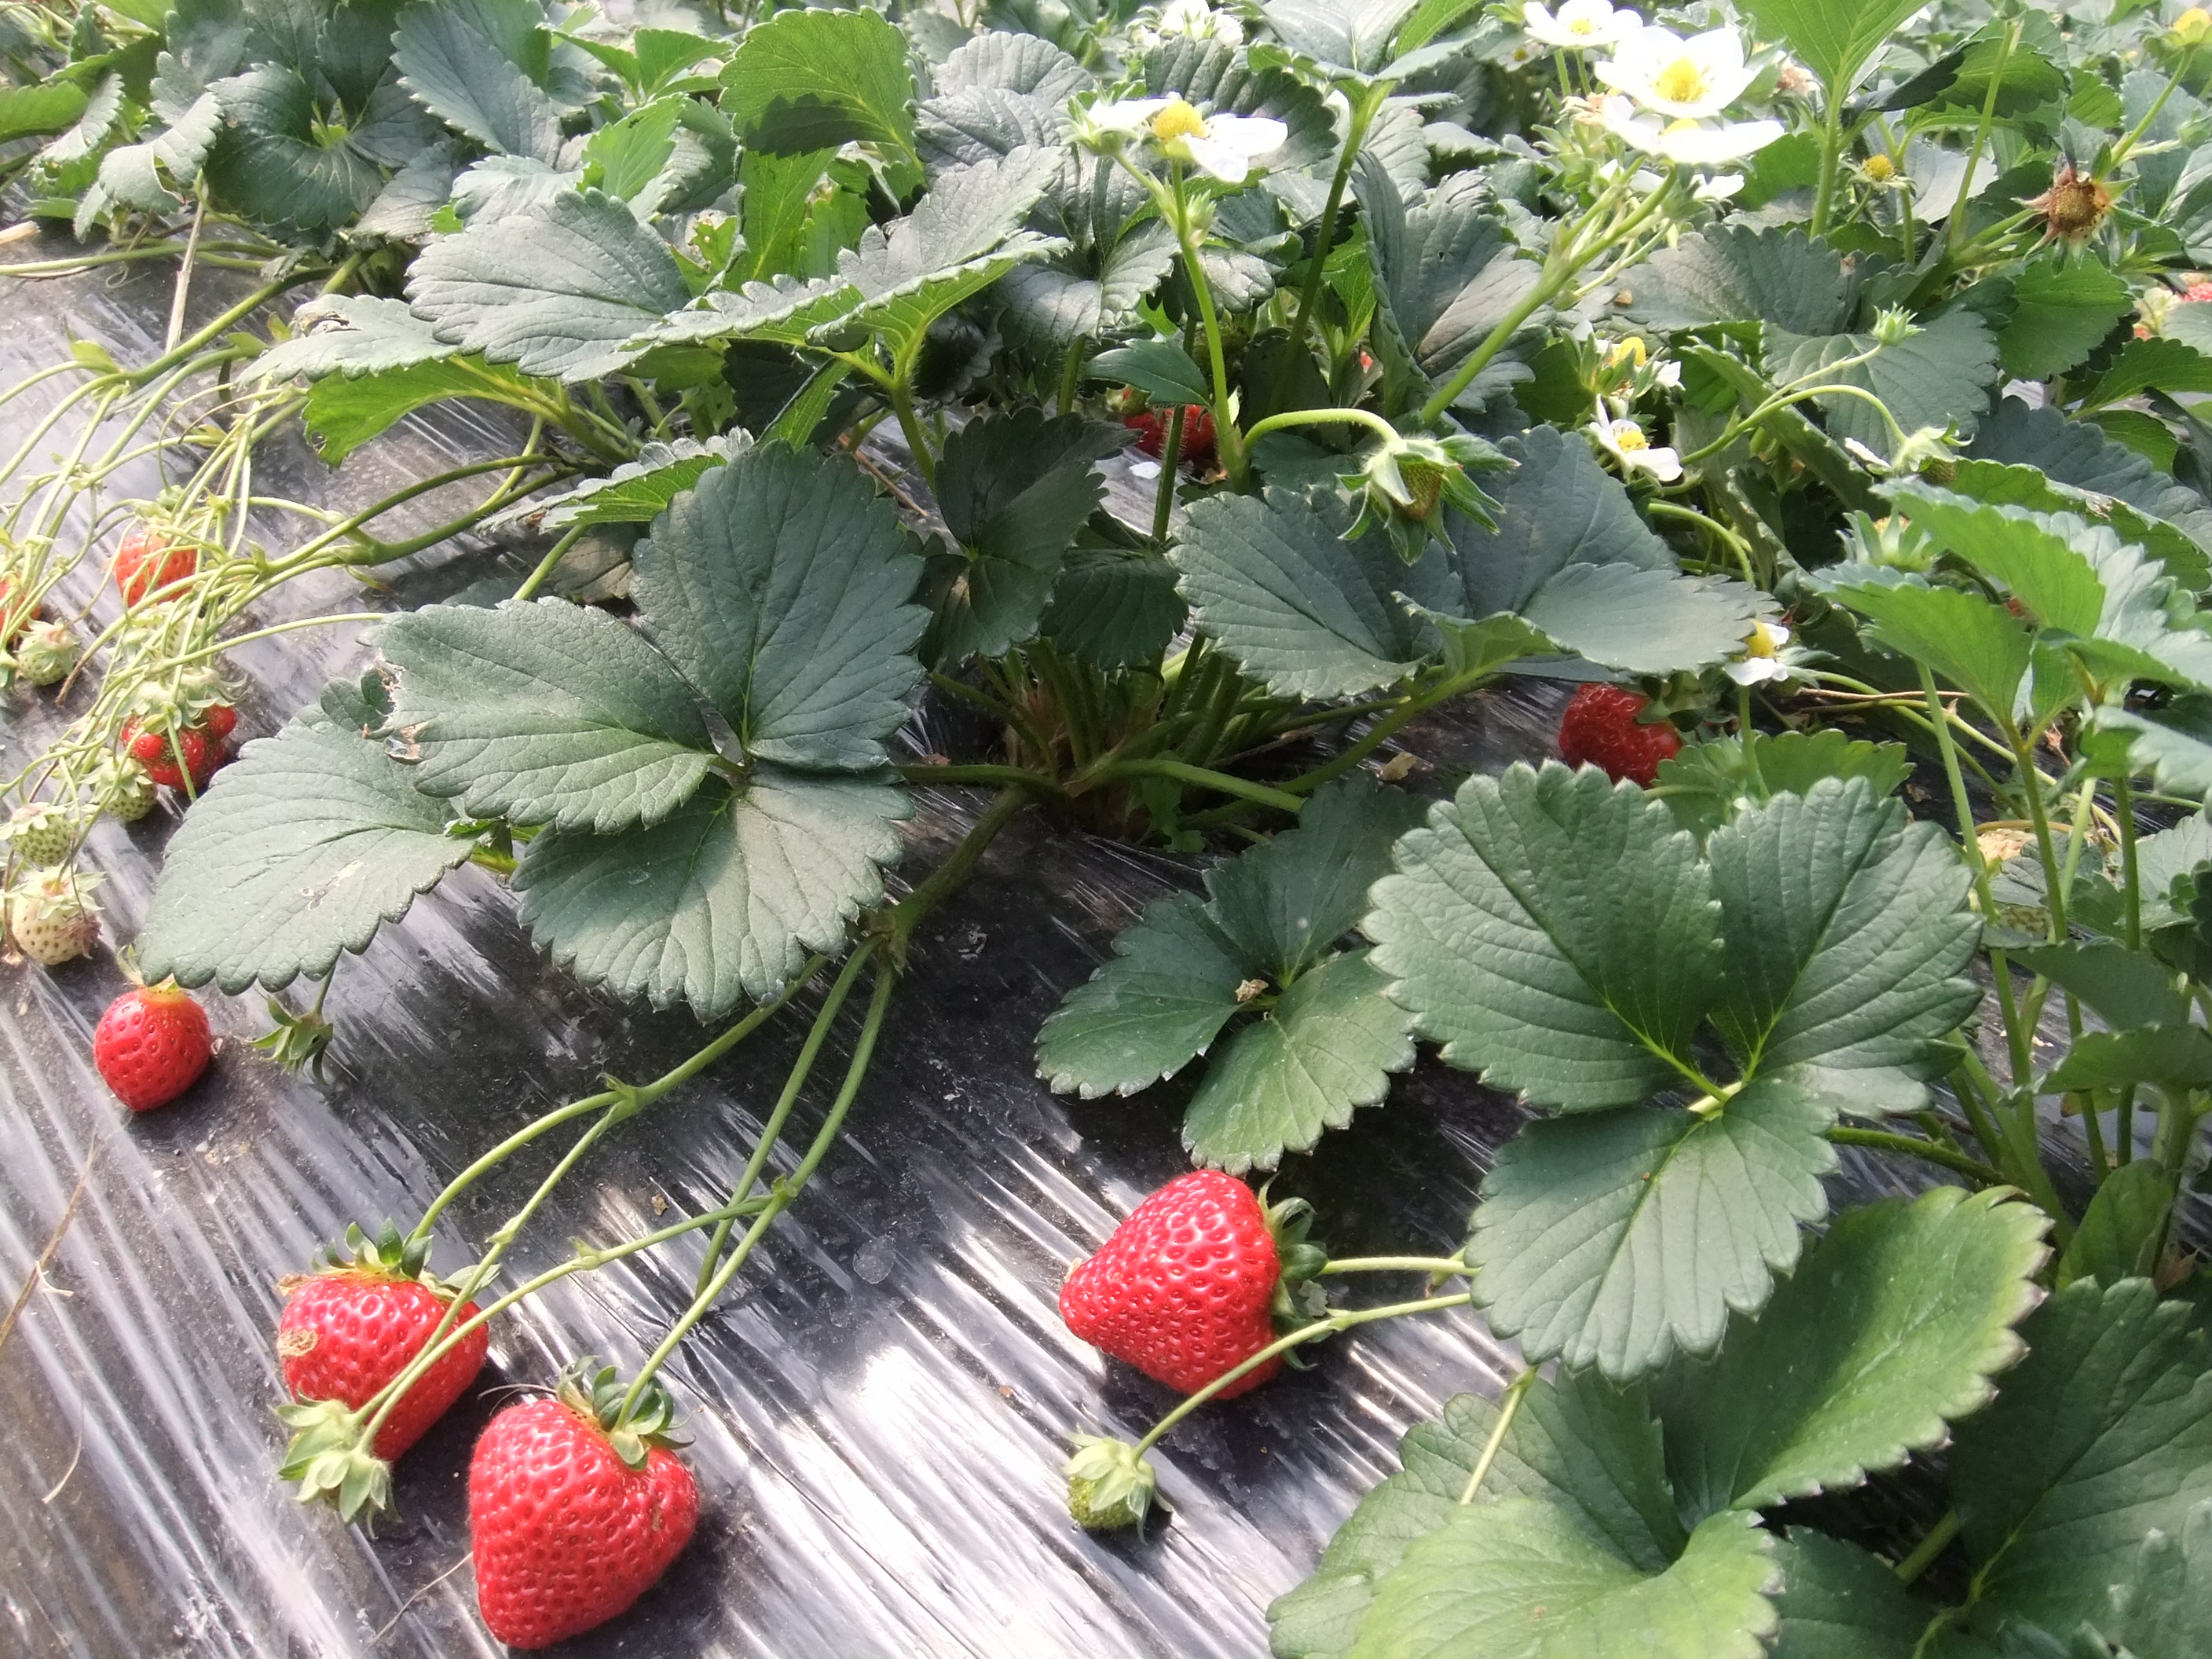StrawberryCircular: (1033, 1150, 1320, 1419), (469, 1373, 700, 1656), (261, 1216, 491, 1485)
StrawberryFusiform: (64, 972, 228, 1122)
StrawberryIrremovable: (1054, 1427, 1184, 1547), (5, 868, 96, 971), (19, 612, 84, 692), (9, 793, 75, 861)
StrawberryOther: (105, 664, 270, 819), (85, 486, 235, 641), (1545, 655, 1705, 788)
StrawberryRemovable: (1036, 1154, 1317, 1413), (467, 1373, 711, 1650), (265, 1220, 489, 1483), (113, 671, 265, 814), (75, 981, 221, 1121), (1552, 660, 1696, 784), (96, 505, 226, 627)
